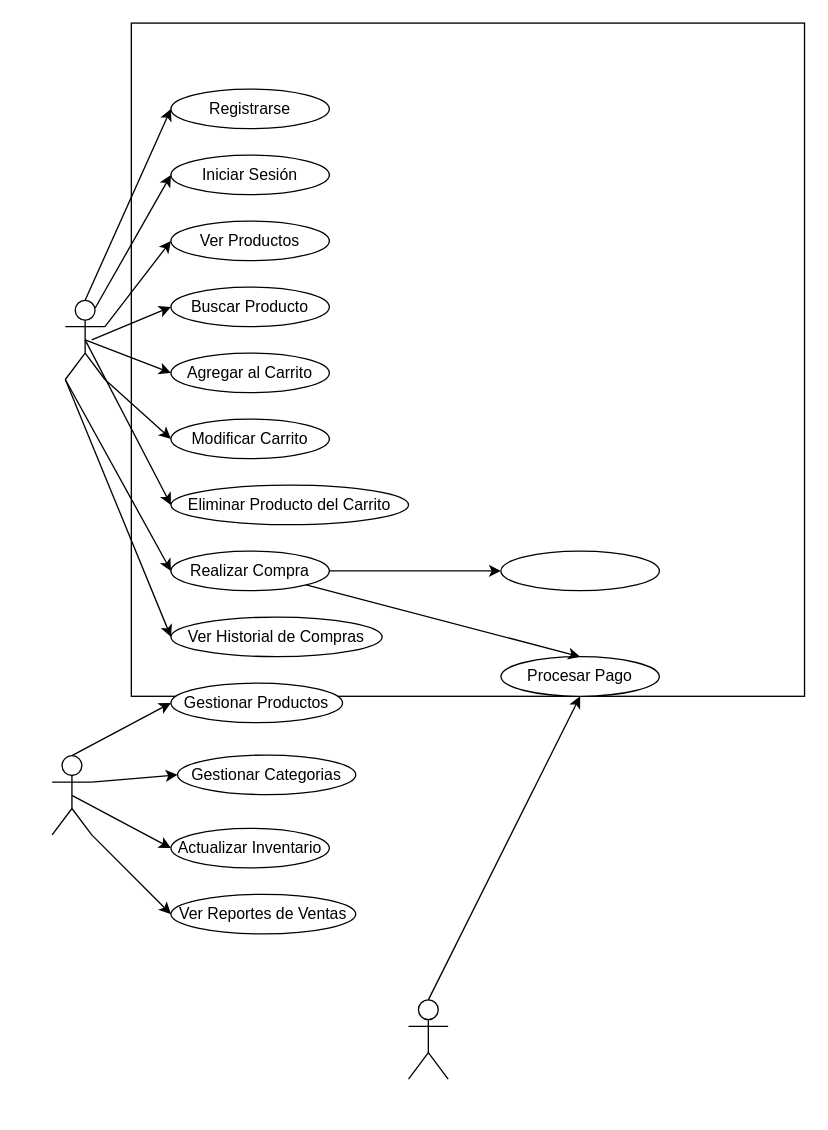
The diagram is 828 pixels wide and 1130 high, and some of its shapes have lost their labels. The centre of each missing label's shape, as x and y in pixels:
"Administrador" goes at (71,794).
"Cliente" goes at (84,339).
"Generar Factura" goes at (579,570).
"Sistema de Pago" goes at (427,1039).
